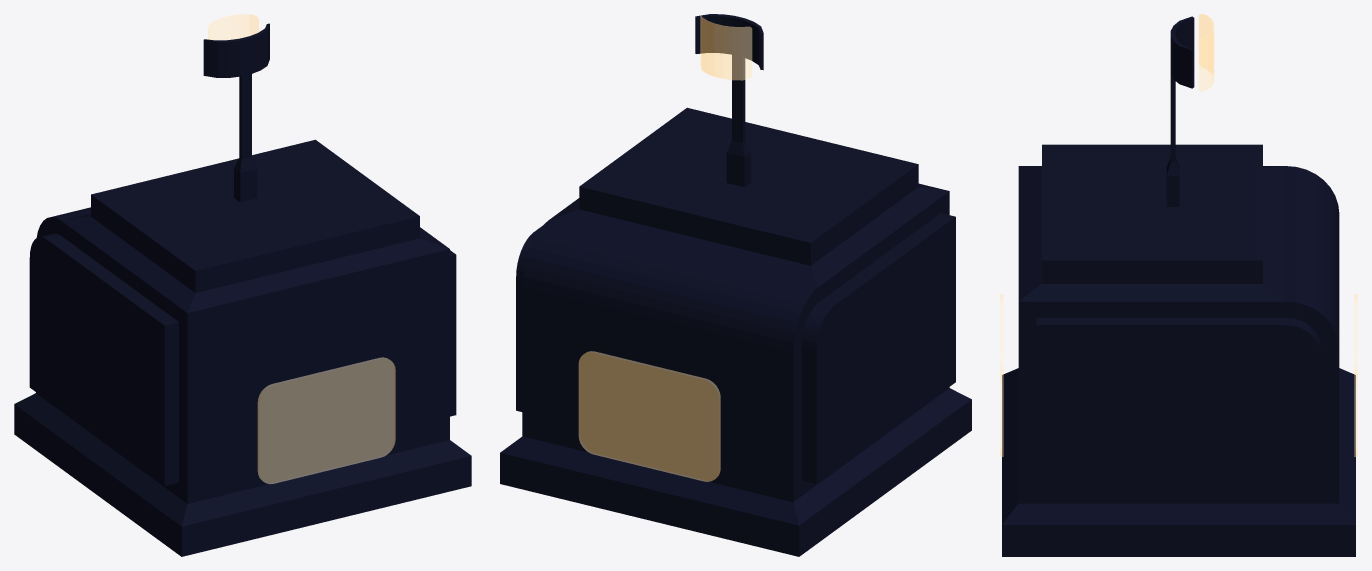
File: environments_block02.fbx
The picture shows the model from 3 angles, left to right: view 1: azimuth 30°, elevation 25°; view 2: azimuth 150°, elevation 25°; view 3: azimuth 270°, elevation 25°; orthographic projection. The views are drawn at different scales.
Parts seen in each view (by area): view 1: Body, Window; view 2: Body, Window; view 3: Body, Window.
Part boxes in pixels (<box>): Body: <box>14,23,471,556</box>; Window: <box>208,14,395,483</box>; Body: <box>500,14,971,556</box>; Window: <box>579,15,751,481</box>; Body: <box>1002,16,1355,556</box>; Window: <box>1000,14,1357,456</box>.
Size of the model in its own units: 201 by 284 by 202.
